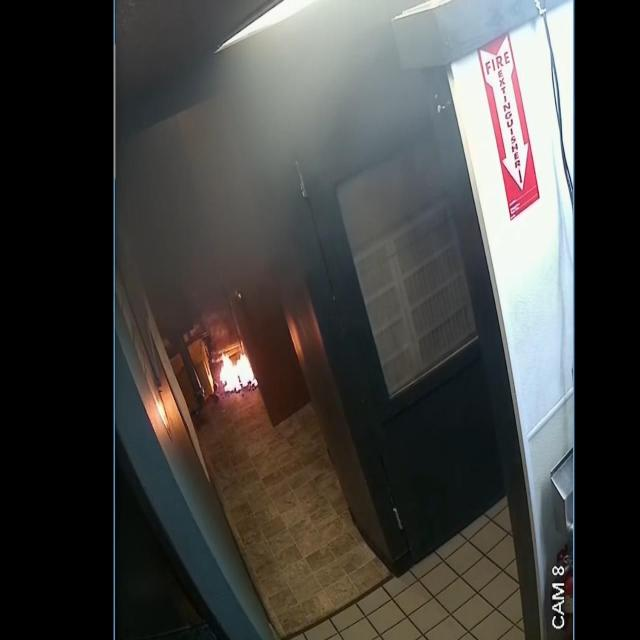fire: (220, 352, 257, 392)
